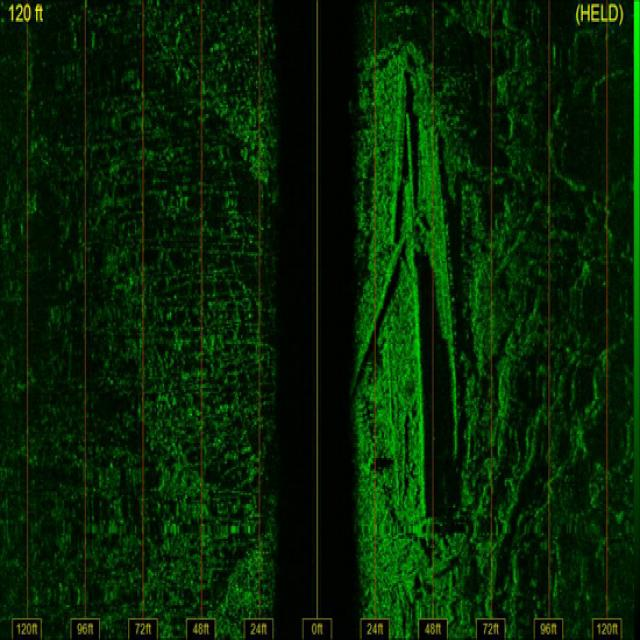ship: (372, 53, 457, 519)
